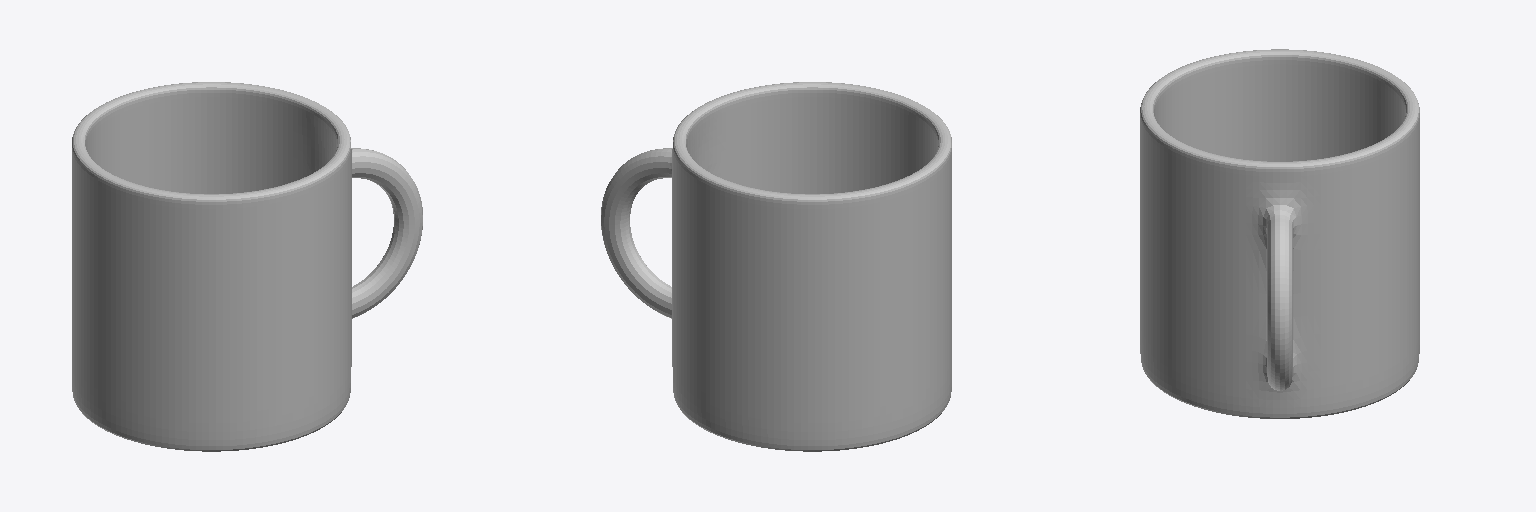
Rendered from Mug.obj.
The picture shows the model from 3 angles: view 1: azimuth 30°, elevation 25°; view 2: azimuth 150°, elevation 25°; view 3: azimuth 270°, elevation 25°; orthographic projection.
Parts seen in each view (by area): view 1: Cup; view 2: Cup; view 3: Cup.
Part boxes in pixels (bbox=[...]): Cup: bbox=[72, 82, 422, 451]; Cup: bbox=[601, 82, 951, 451]; Cup: bbox=[1140, 49, 1419, 418].
Bounding box in the file's own units: 2.72 × 2 × 1.99.